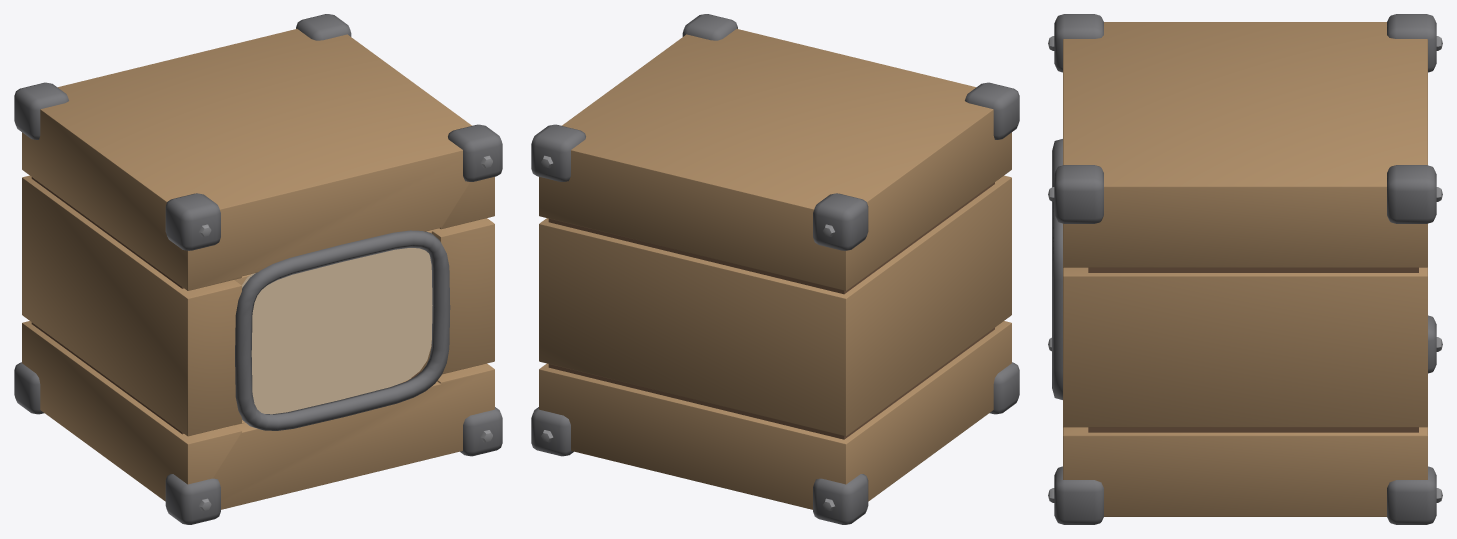
The model's file is Kit_Head_Crate.glb.
3 views of the same model, side by side, from view 1: azimuth 30°, elevation 25°; view 2: azimuth 150°, elevation 25°; view 3: azimuth 270°, elevation 25° (orthographic). The views are drawn at different scales.
Visible parts, largest first — view 1: Kit_Head_Crate, FacePlate; view 2: Kit_Head_Crate; view 3: Kit_Head_Crate.
Part boxes in pixels (left/top/right/bottom): Kit_Head_Crate: left=14, top=14, right=502, bottom=524; FacePlate: left=242, top=248, right=432, bottom=414; Kit_Head_Crate: left=531, top=14, right=1019, bottom=524; Kit_Head_Crate: left=1048, top=14, right=1442, bottom=524.
Size of the model in its own units: 0.324 by 0.352 by 0.314.
